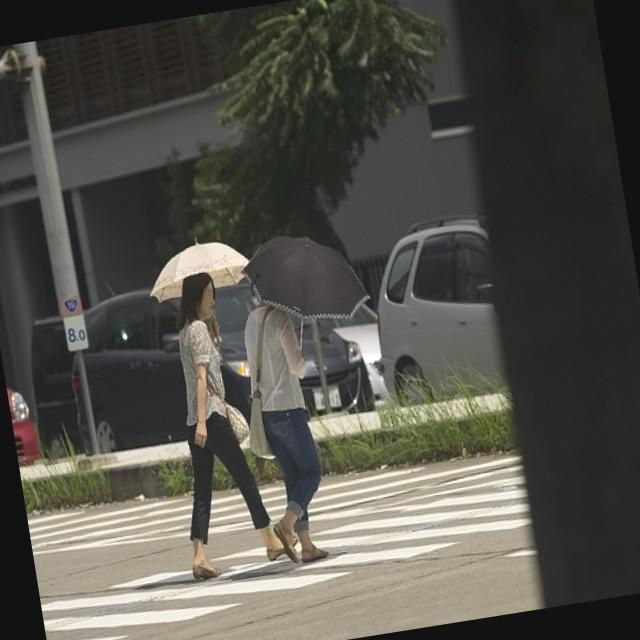Vehicle: (357, 210, 513, 413), (209, 260, 378, 432), (58, 284, 201, 459), (18, 312, 90, 461), (316, 302, 392, 408), (0, 322, 44, 466)
